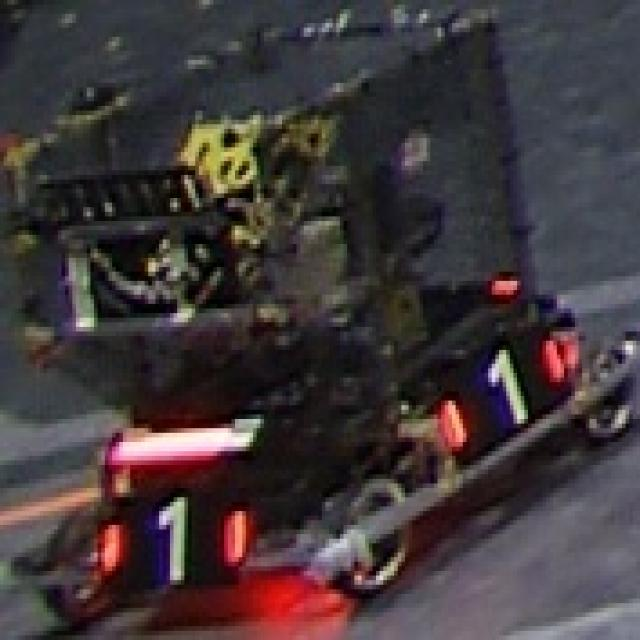R1: (434, 336, 571, 442), (101, 498, 257, 590)
